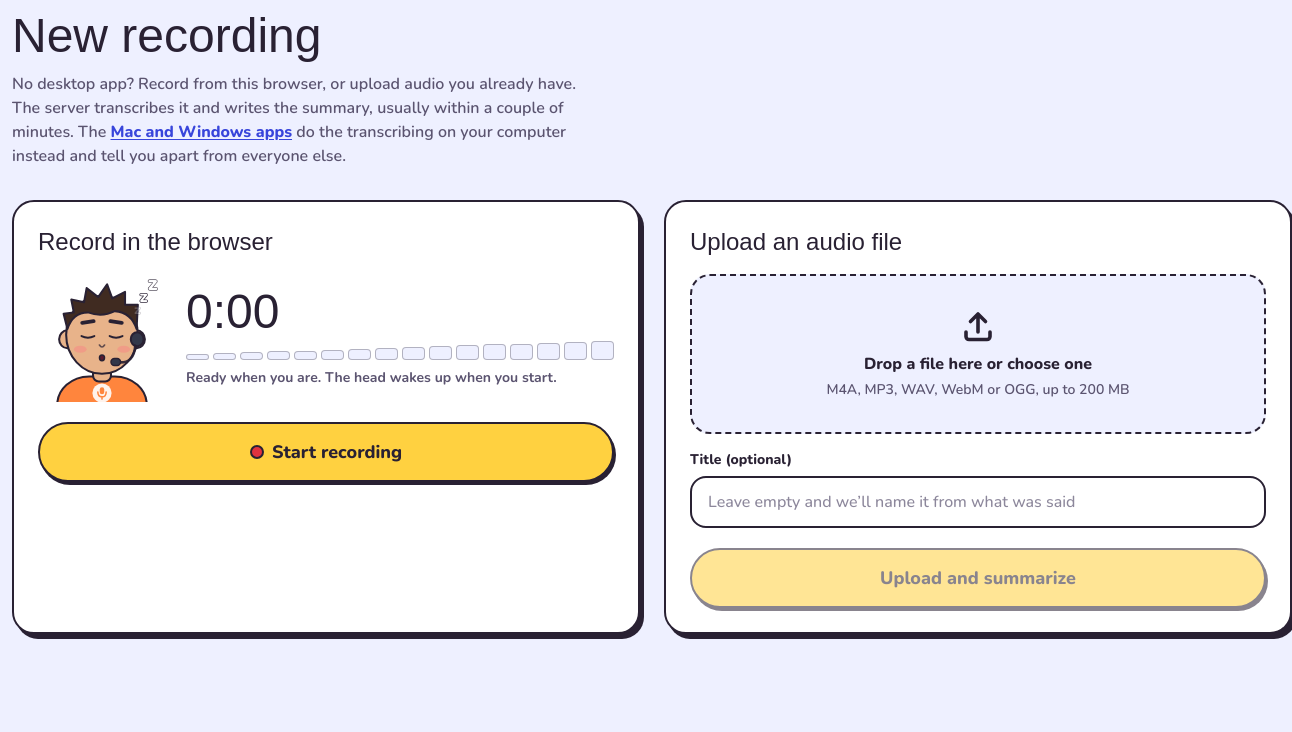
Test: RecordView: recorder › starts with a sleeping head and reports a blocked microphone
The width and height of the screenshot is (1292, 732).
Expected: the text "Ready when you are. The head wakes up when you start." is shown, [186, 368, 614, 388]
Expected: the text with test id "rec-timer" reads "0:00", [186, 285, 279, 338]
What coordinates should you click on to do the following:
click the button "Start recording"
I would click on:
 (326, 452)
Its box is [38, 422, 614, 482].
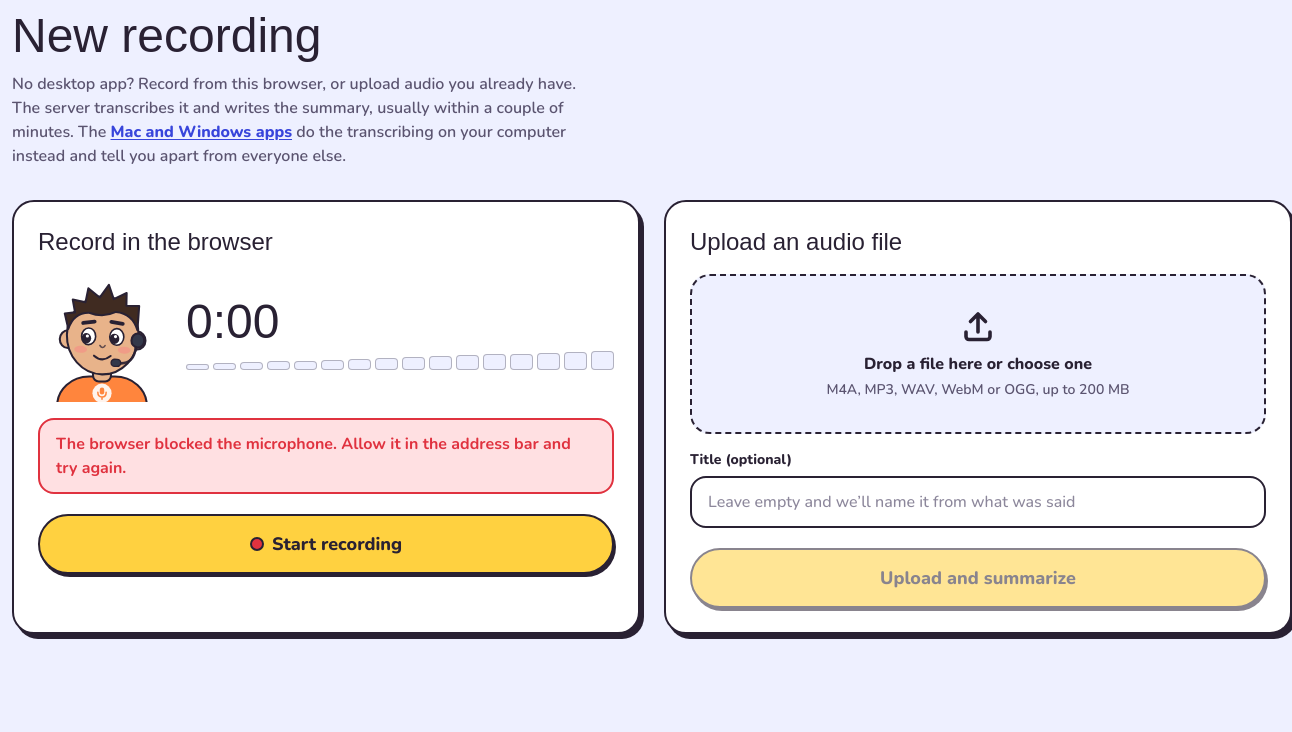
Expected: the text "blocked the microphone" is shown, [56, 433, 571, 479]
